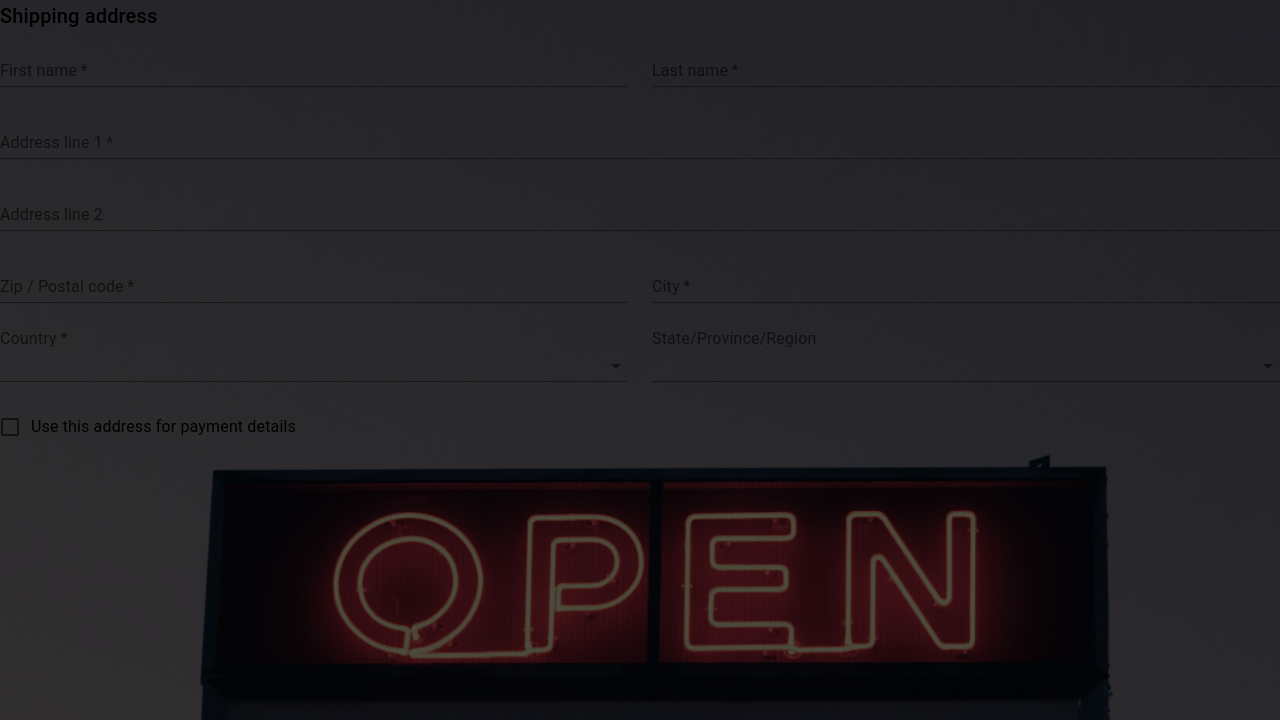
Test: <AddressForm /> › when it renders the Address Form › should display the right countries when the country select list is clicked
Step 1. Click the dropdown named "Country *" below "Country *" → (314, 366), box [0,350,628,382]
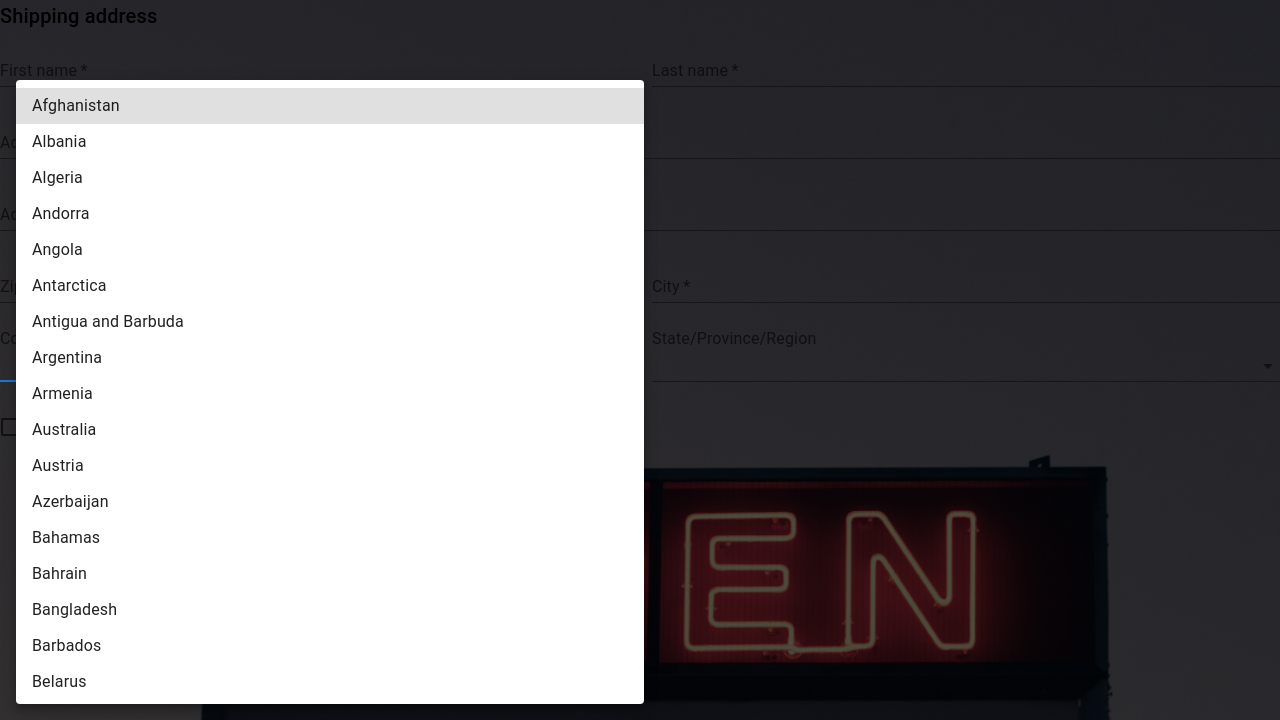
Check: the option "Afghanistan" is shown, box [16,88,644,124]
Check: the option "Albania" is shown, box [32,132,86,151]
Check: the option "Algeria" is shown, box [32,168,83,187]
